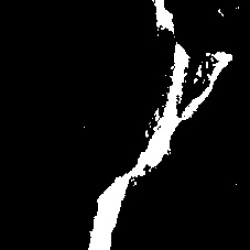crack: (88, 1, 232, 248)
pinhole: (218, 11, 224, 18)
